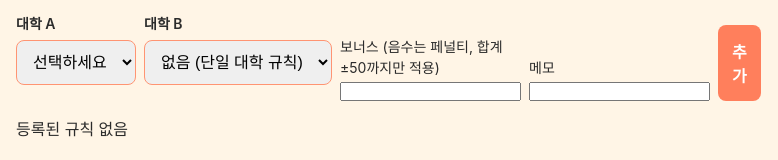
UniversityWeightTab › 대학명이 비면 요청하지 않고 에러를 띄운다
This screenshot has width=778, height=160.
Check: the text "등록된 규칙 없음" is shown, box [16,119,128,139]
Type "30" into the number field labelled "보너스 (음수는 페널티, 합계 ±50까지만 적용)".
click(430, 92); type("30")  # box [340,82,521,101]
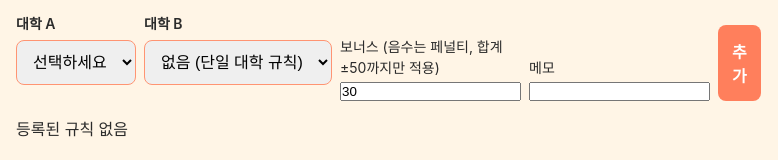
Click the button "추가".
click(739, 63)  # box [718,25,761,101]
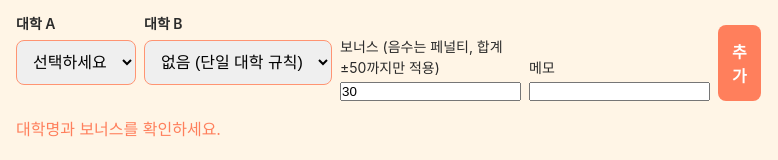
Check: the text "대학명과 보너스를 확인하세요." is shown, box [16,119,221,139]
